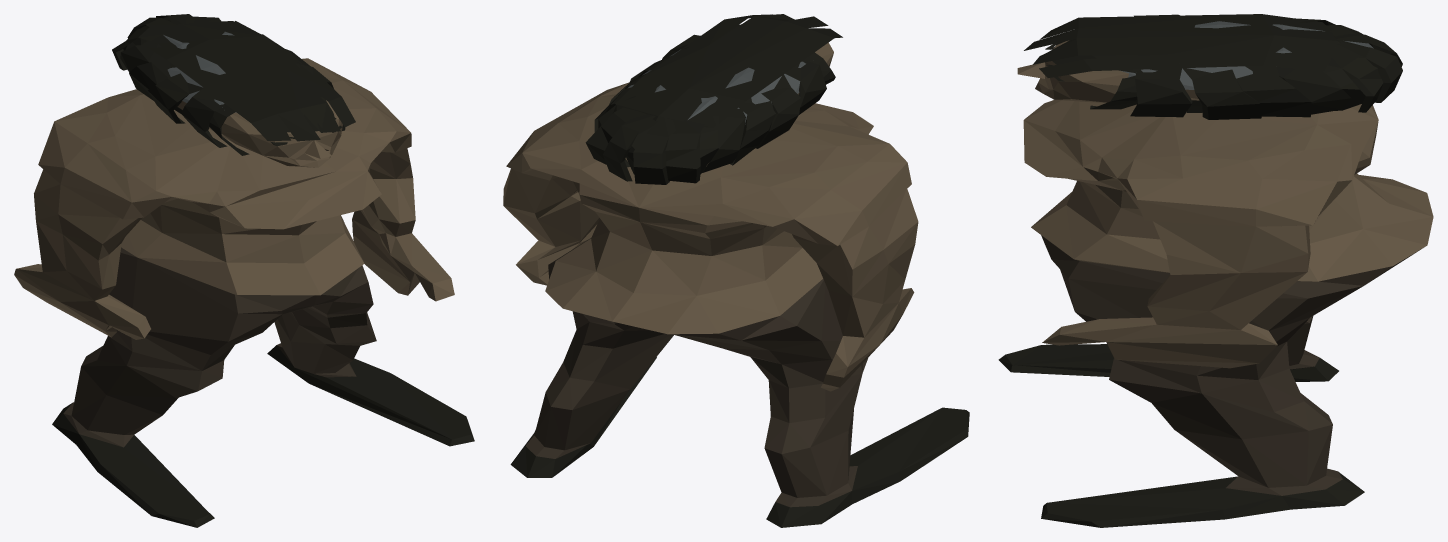
Rendered from woman.glb.
The picture shows the model from 3 angles, left to right: view 1: azimuth 30°, elevation 25°; view 2: azimuth 150°, elevation 25°; view 3: azimuth 270°, elevation 25°; orthographic projection. The views are drawn at different scales.
Size of the model in its own units: 1 by 0.9991 by 0.988.
